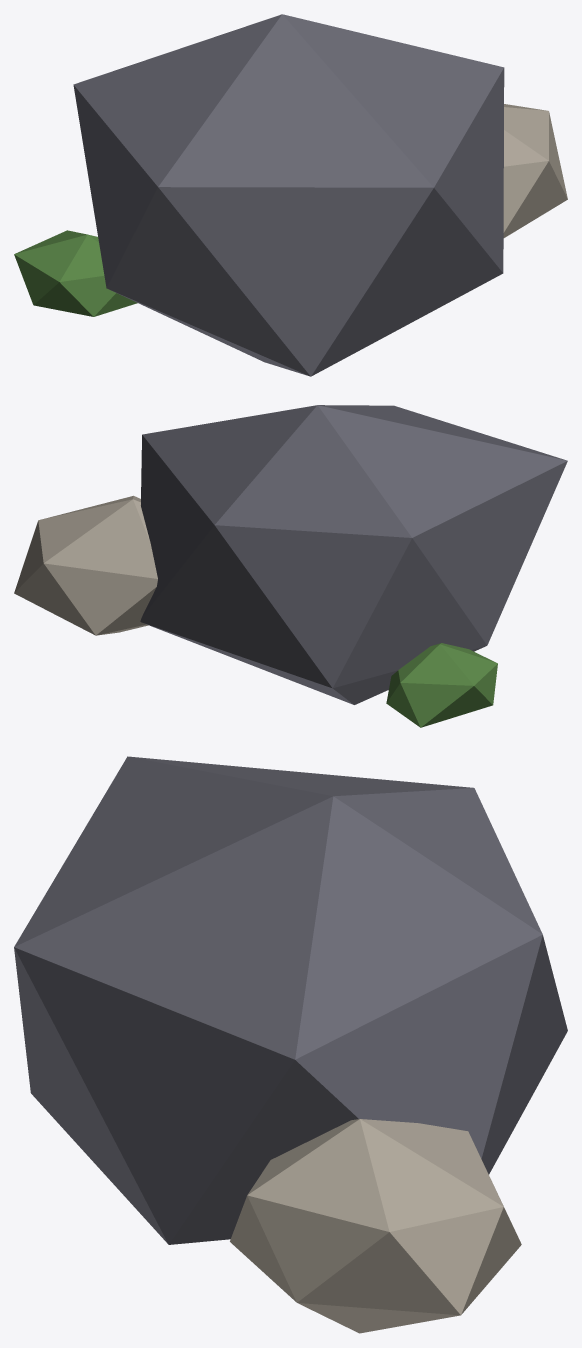
The model's file is garden_rock_set.fbx.
3 views of the same model, one above another, from view 1: azimuth 30°, elevation 25°; view 2: azimuth 150°, elevation 25°; view 3: azimuth 270°, elevation 25° (orthographic). The views are drawn at different scales.
Visible parts, largest first — view 1: garden_rock_set; view 2: garden_rock_set; view 3: garden_rock_set.
Part boxes in pixels (left/top/right/bottom): garden_rock_set: left=14, top=14, right=567, bottom=376; garden_rock_set: left=14, top=405, right=567, bottom=727; garden_rock_set: left=14, top=756, right=567, bottom=1333.
Bounding box in the file's own units: 1.93 × 1.21 × 1.35.
